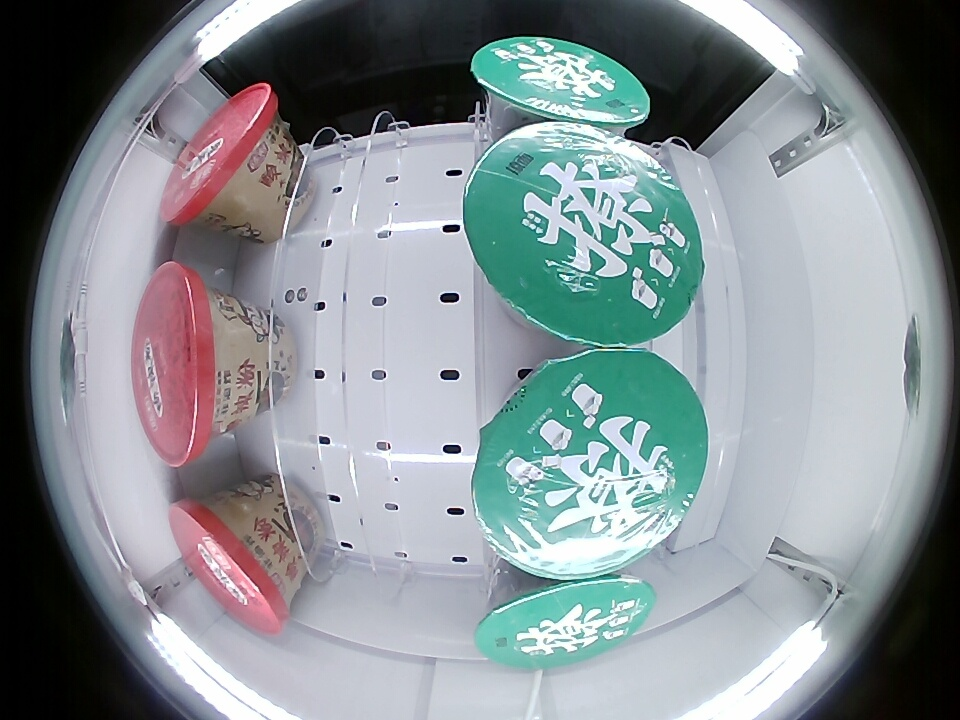liaomian: (470, 350, 710, 582), (459, 123, 704, 348), (476, 568, 658, 672), (470, 37, 652, 137)
suanlafen: (132, 261, 253, 460), (163, 83, 284, 229), (170, 494, 294, 634)
